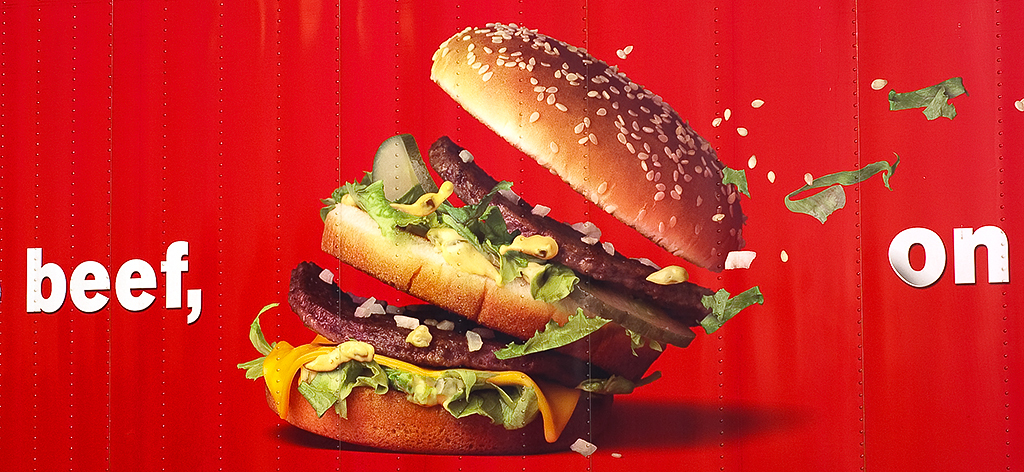Hamburger: (238, 23, 762, 453)
